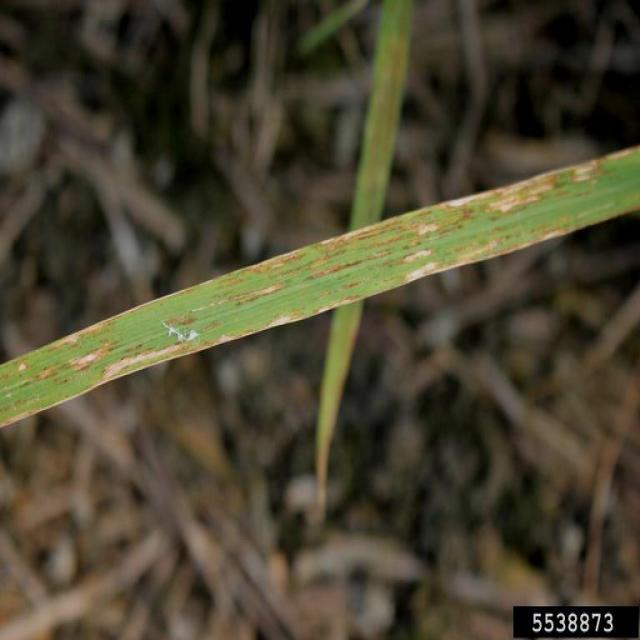Rice_Bacterial_Blight: (95, 152, 602, 358)
